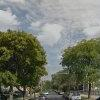Tree: (2, 23, 45, 98)
